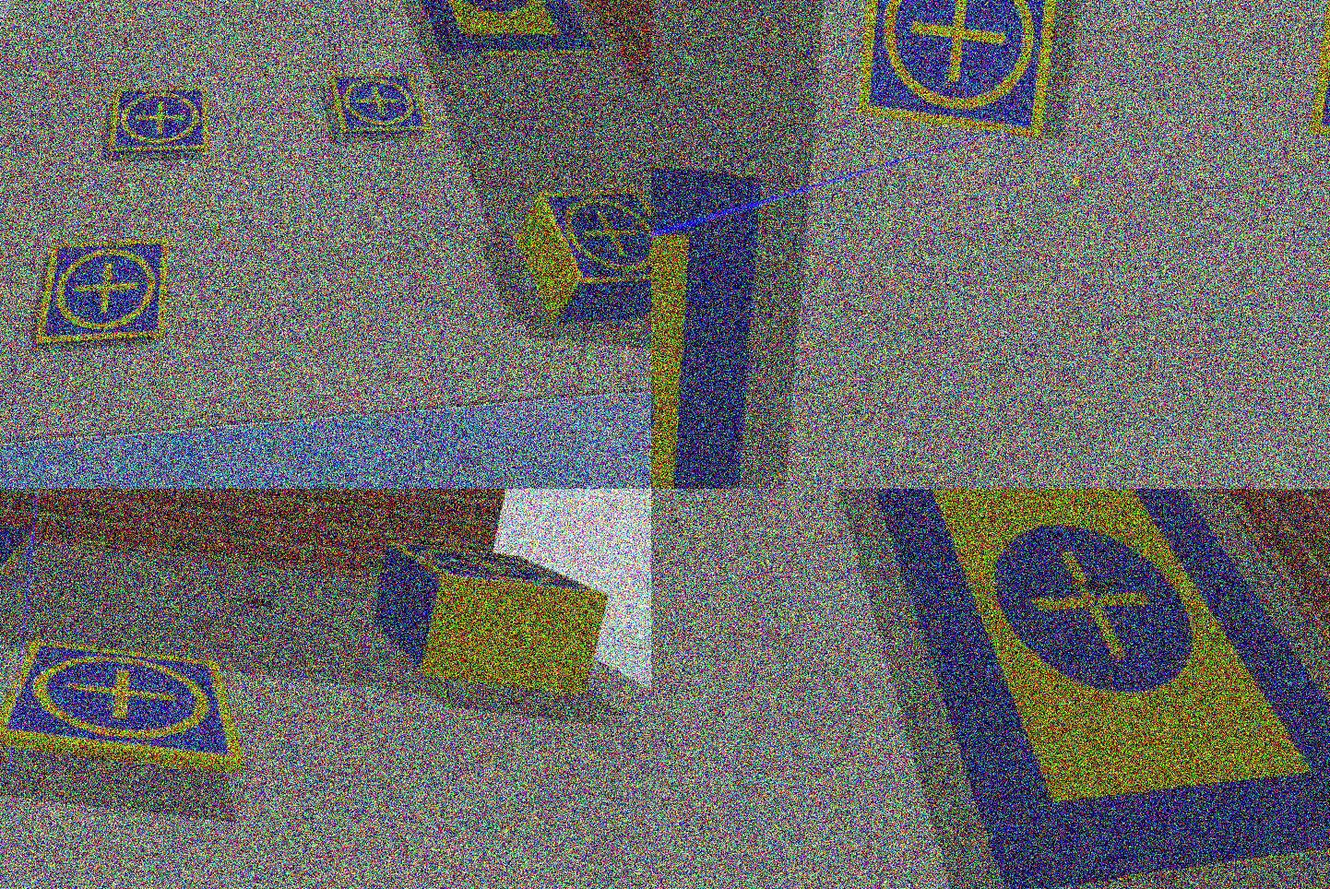large_base: (803, 490, 1330, 889), (652, 141, 774, 490), (386, 1, 607, 74)
small_base: (1, 634, 261, 776), (845, 1, 1070, 144), (33, 227, 175, 360), (523, 176, 652, 301), (384, 535, 612, 605), (100, 74, 215, 169), (321, 63, 438, 149)
